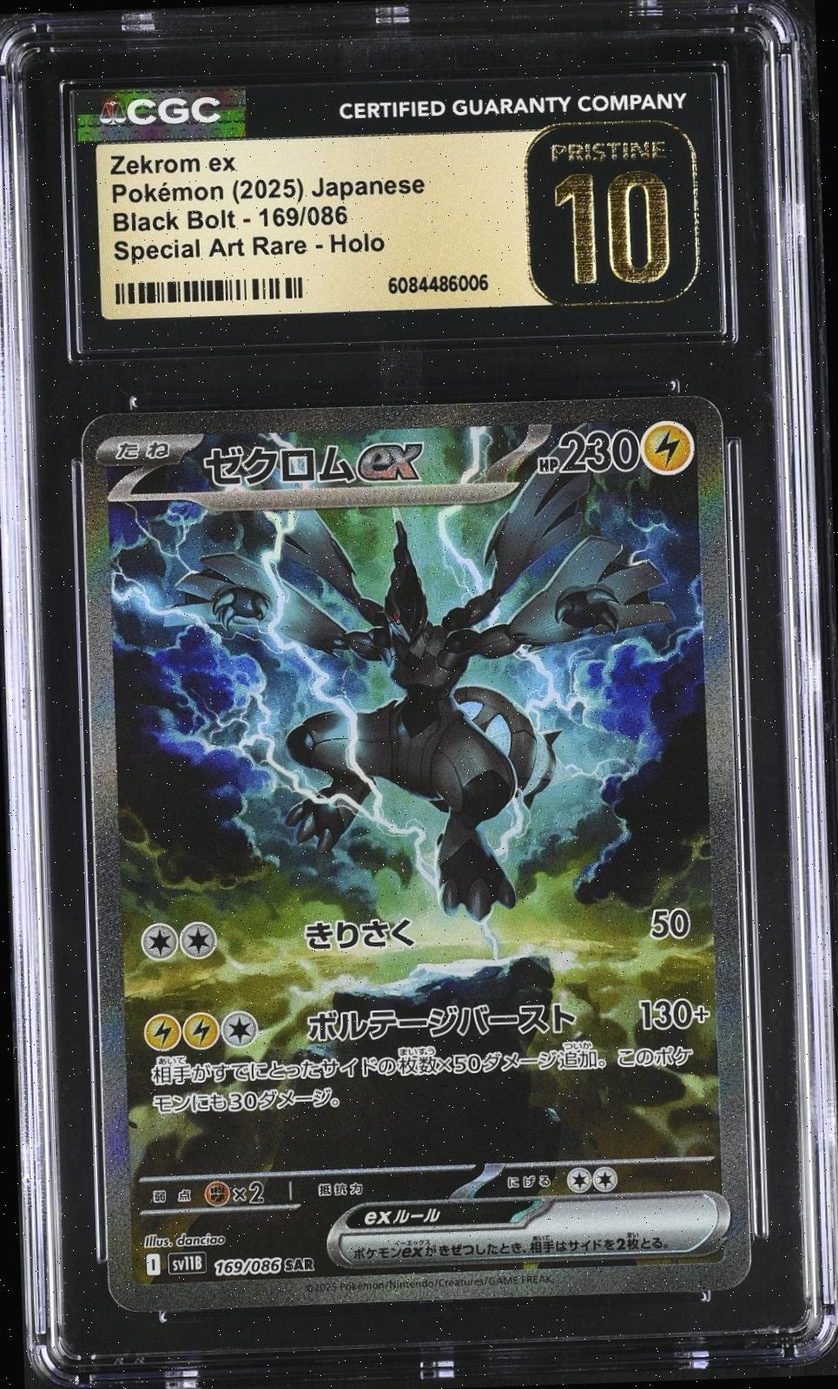card-2UtV: (80, 395, 751, 1312)
